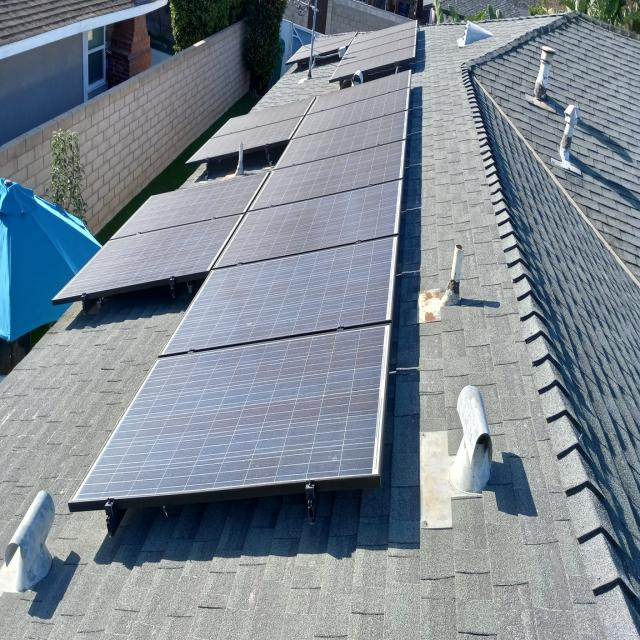dust-solar-panel: (52, 70, 410, 504)
